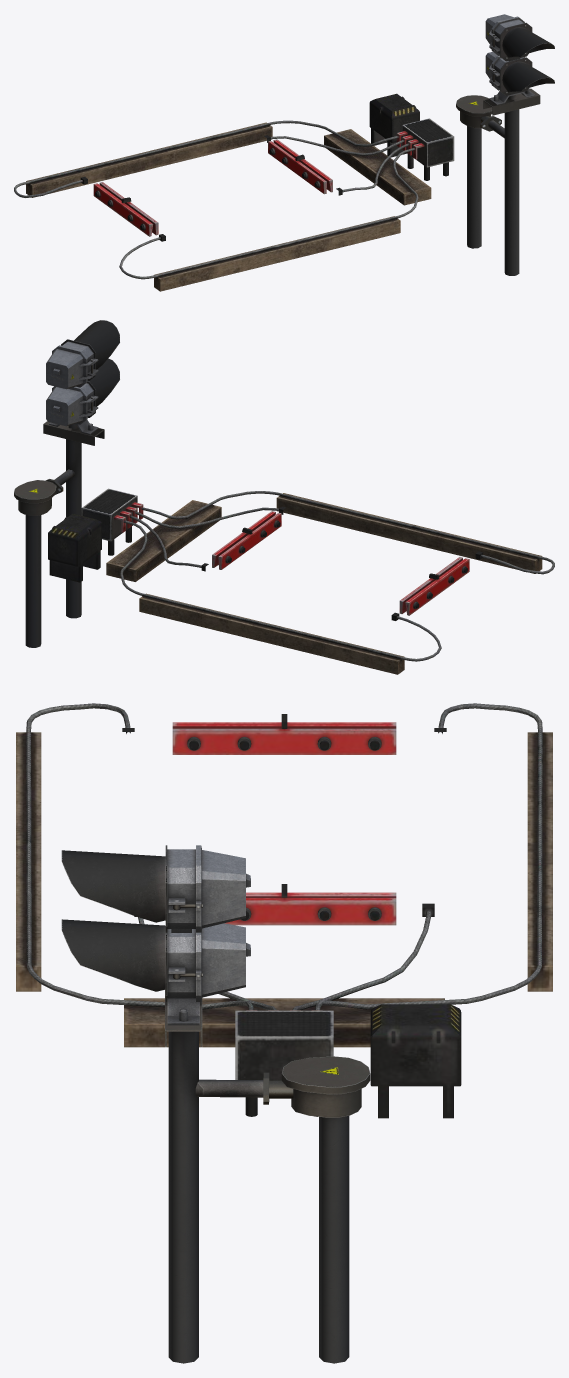
File: ab_shnt.gltf
The picture shows the model from 3 angles, top to bottom: view 1: azimuth 30°, elevation 25°; view 2: azimuth 150°, elevation 25°; view 3: azimuth 270°, elevation 25°; orthographic projection. The views are drawn at different scales.
Parts seen in each view (by area): view 1: Изостык, Светофор 3; view 2: Изостык, Светофор 3; view 3: Изостык, Светофор 3.
Part boxes in pixels (bbox=[...]): Изостык: bbox=[14, 93, 454, 291]; Светофор 3: bbox=[456, 14, 554, 275]; Изостык: bbox=[48, 488, 554, 674]; Светофор 3: bbox=[14, 320, 119, 647]; Изостык: bbox=[16, 703, 552, 1118]; Светофор 3: bbox=[61, 845, 370, 1363].
Size of the model in its own units: 4.02 by 2.2 by 2.13.
2 materials, 2 textured.
